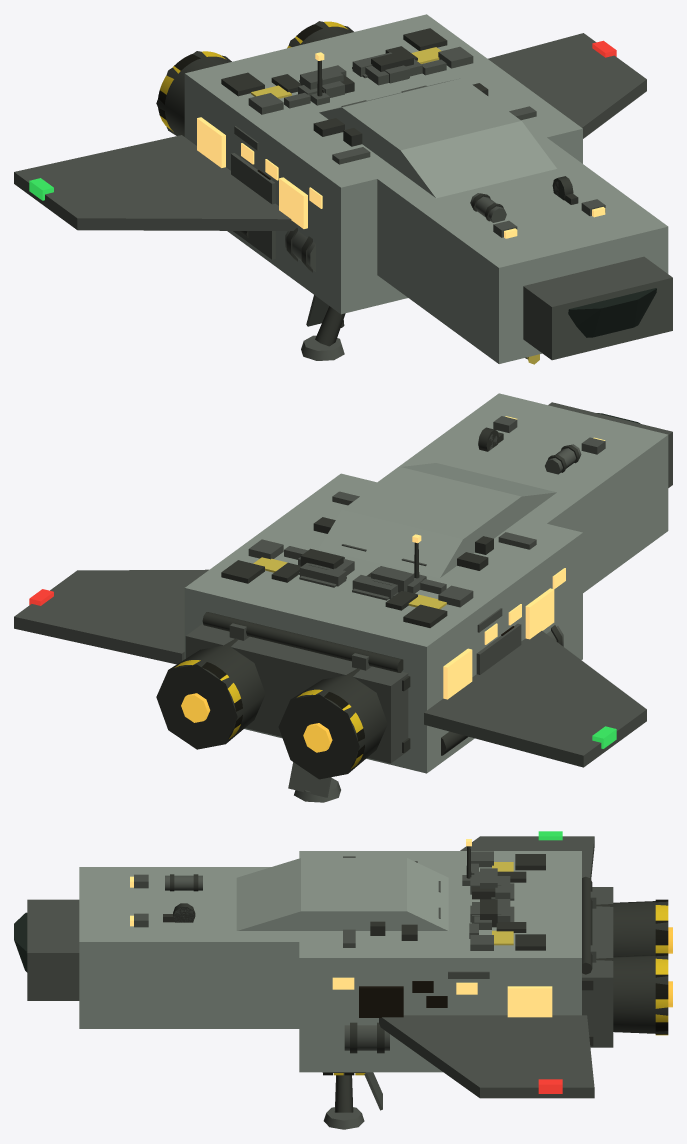
Rendered from shuttle-m.glb.
3 renders of one model, top to bottom at view 1: azimuth 30°, elevation 25°; view 2: azimuth 150°, elevation 25°; view 3: azimuth 270°, elevation 25°, orthographic. The views are drawn at different scales.
Parts seen in each view (by area): view 1: hullMain, hullNose, wingLeft, canopyFairing, hullNoseTip, wingRight, cockpitGlass, engineHousing (×2), boardingDoor, cabinWindow1L, cabinWindow0L, gearFoot (+8 smaller); view 2: hullMain, hullNose, wingLeft, canopyFairing, engineHousing (×2), wingRight, engineBayExtension, propellantHeader, engineGlow (×2), boardingDoor, cabinWindow1L, cabinWindow0L (+8 smaller); view 3: hullMain, hullNose, canopyFairing, wingRight, engineHousing (×2), hullNoseTip, engineBayExtension, wingLeft, cabinWindow0R, cabinWindow1R, propellantHeader, shuttleShiphullMainPropellantTankR (+6 smaller).
Boxes of the visible parts, bbox=[...] form: hullMain: bbox=[184, 14, 582, 314]; hullNose: bbox=[370, 131, 668, 363]; wingLeft: bbox=[14, 135, 296, 230]; canopyFairing: bbox=[319, 78, 556, 198]; hullNoseTip: bbox=[523, 256, 672, 360]; wingRight: bbox=[488, 33, 646, 138]; cockpitGlass: bbox=[568, 288, 656, 337]; engineHousing (×2): bbox=[156, 21, 353, 136]; boardingDoor: bbox=[231, 153, 275, 259]; cabinWindow1L: bbox=[279, 177, 307, 228]; cabinWindow0L: bbox=[197, 117, 225, 167]; gearFoot: bbox=[301, 335, 344, 360]; hullMain: bbox=[184, 473, 582, 773]; hullNose: bbox=[368, 393, 668, 592]; wingLeft: bbox=[424, 631, 646, 767]; canopyFairing: bbox=[319, 463, 556, 577]; engineHousing (×2): bbox=[156, 638, 387, 779]; wingRight: bbox=[14, 569, 208, 664]; engineBayExtension: bbox=[185, 624, 408, 763]; propellantHeader: bbox=[202, 612, 403, 672]; engineGlow (×2): bbox=[181, 693, 332, 752]; boardingDoor: bbox=[476, 623, 521, 674]; cabinWindow1L: bbox=[525, 588, 554, 639]; cabinWindow0L: bbox=[443, 648, 472, 699]; hullMain: bbox=[299, 851, 581, 1072]; hullNose: bbox=[79, 867, 317, 1028]; canopyFairing: bbox=[236, 858, 448, 930]; wingRight: bbox=[379, 1015, 594, 1098]; engineHousing (×2): bbox=[596, 901, 668, 1034]; hullNoseTip: bbox=[27, 899, 79, 1000]; engineBayExtension: bbox=[582, 887, 613, 1047]; wingLeft: bbox=[460, 836, 594, 879]; cabinWindow0R: bbox=[507, 986, 552, 1017]; cabinWindow1R: bbox=[359, 986, 403, 1017]; propellantHeader: bbox=[582, 876, 592, 974]; shuttleShiphullMainPropellantTankR: bbox=[344, 1025, 389, 1050].
Size of the model in its own units: 4.03 by 1.55 by 4.43.
